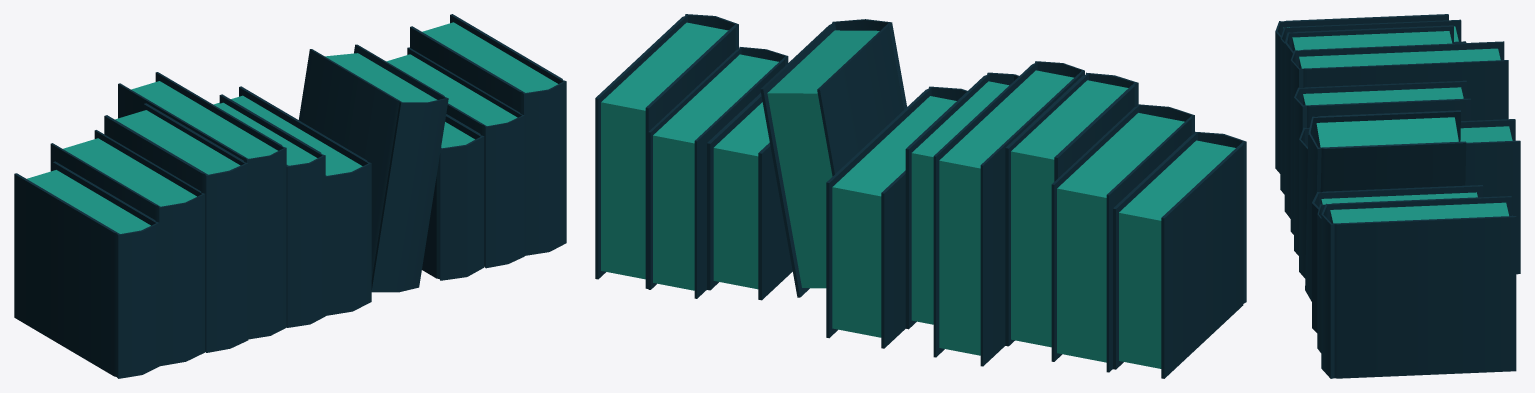
Rendered from Mid3.fbx.
3 renders of one model, left to right at view 1: azimuth 30°, elevation 25°; view 2: azimuth 150°, elevation 25°; view 3: azimuth 270°, elevation 25°, orthographic. The views are drawn at different scales.
Parts seen in each view (by area): view 1: book.024; view 2: book.024; view 3: book.024.
Part boxes in pixels (x1=…): book.024: x1=14, y1=14, x2=566, y2=378; book.024: x1=595, y1=14, x2=1246, y2=378; book.024: x1=1275, y1=14, x2=1520, y2=378.
Bounding box in the file's own units: 155 × 57.28 × 70.37.
